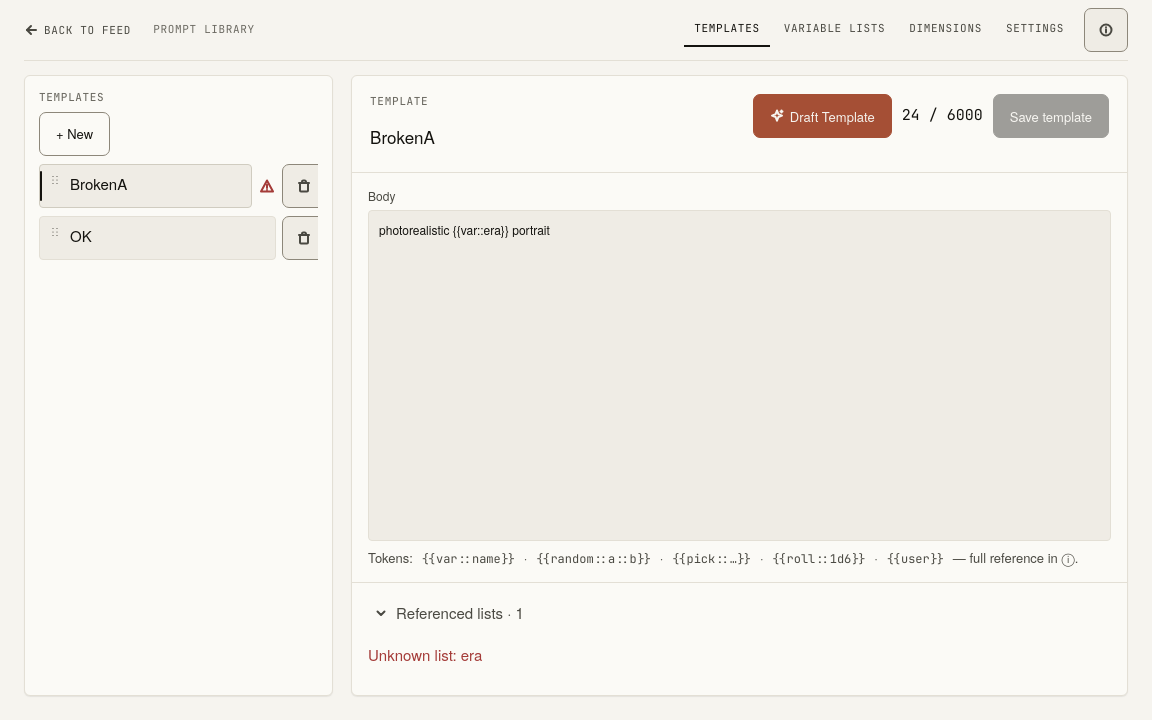
Test: PromptManager diagnosis badges › an inconclusive template gets an incomplete badge and explanation without an unsatisfiable label
Click the button named "BrokenA: diagnosis incomplete": (267, 186) [258,177,276,195]
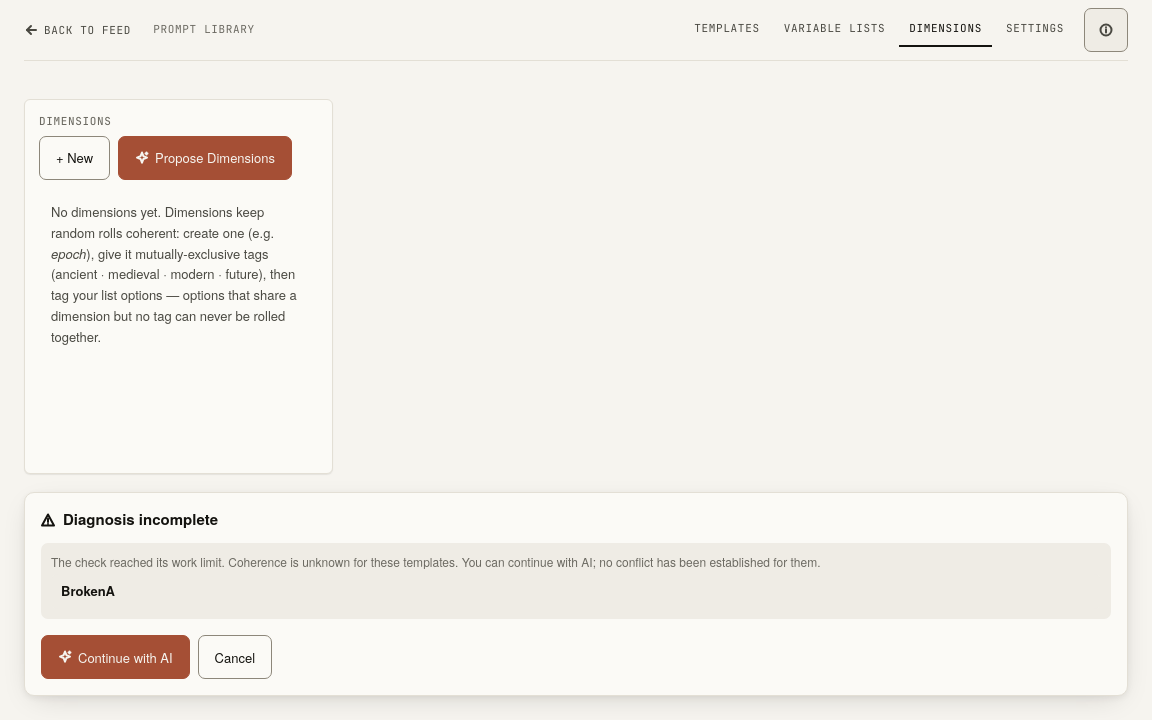
Expected: the heading "Diagnosis incomplete" is shown, [63,509,218,531]
Expected: the text "Coherence is unknown" is shown, [51,553,820,570]
